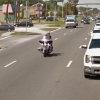Motorcycle: (34, 30, 60, 58)
